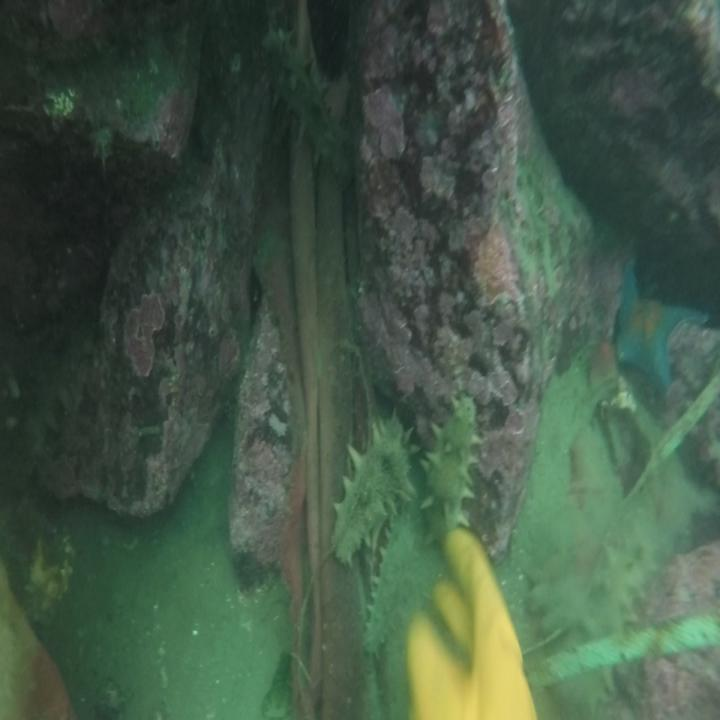holothurian: (257, 30, 357, 182), (521, 540, 651, 636), (335, 409, 411, 556), (422, 392, 475, 542), (362, 512, 416, 651)
starfish: (612, 257, 714, 384)
